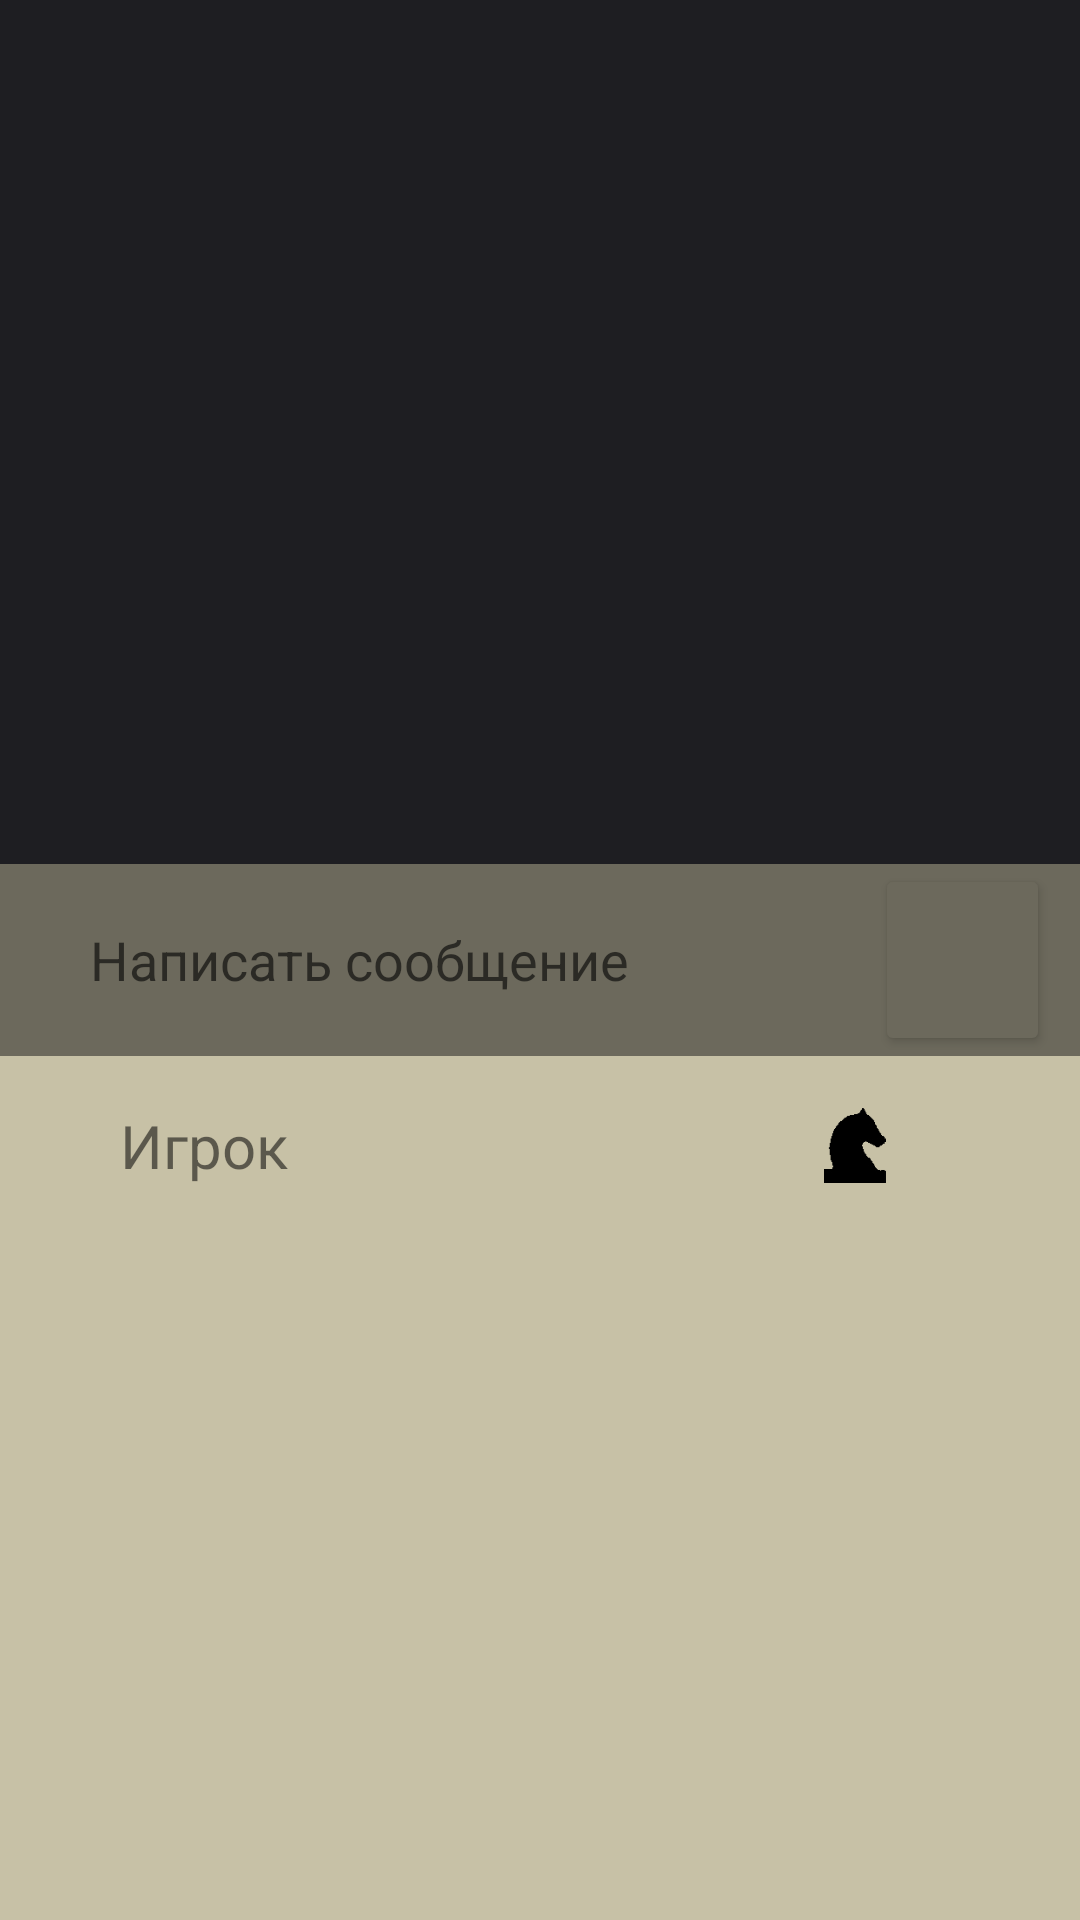

Icons on this 1080×1920 Android screen, each with its box as (x1,y1,x2,y2):
knight: (824,1108,886,1183)
